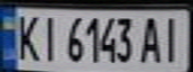1: (81, 14, 100, 63)
3: (115, 13, 139, 64)
4: (100, 14, 118, 63)
6: (63, 12, 84, 63)
A: (136, 14, 166, 63)
I: (157, 12, 187, 63), (36, 11, 60, 62)
K: (12, 11, 42, 62)
